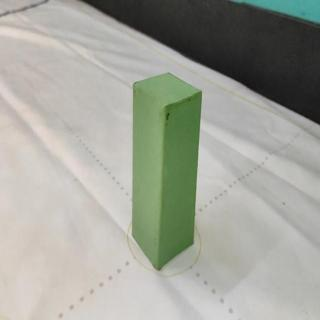greenbox: (131, 71, 203, 271)
